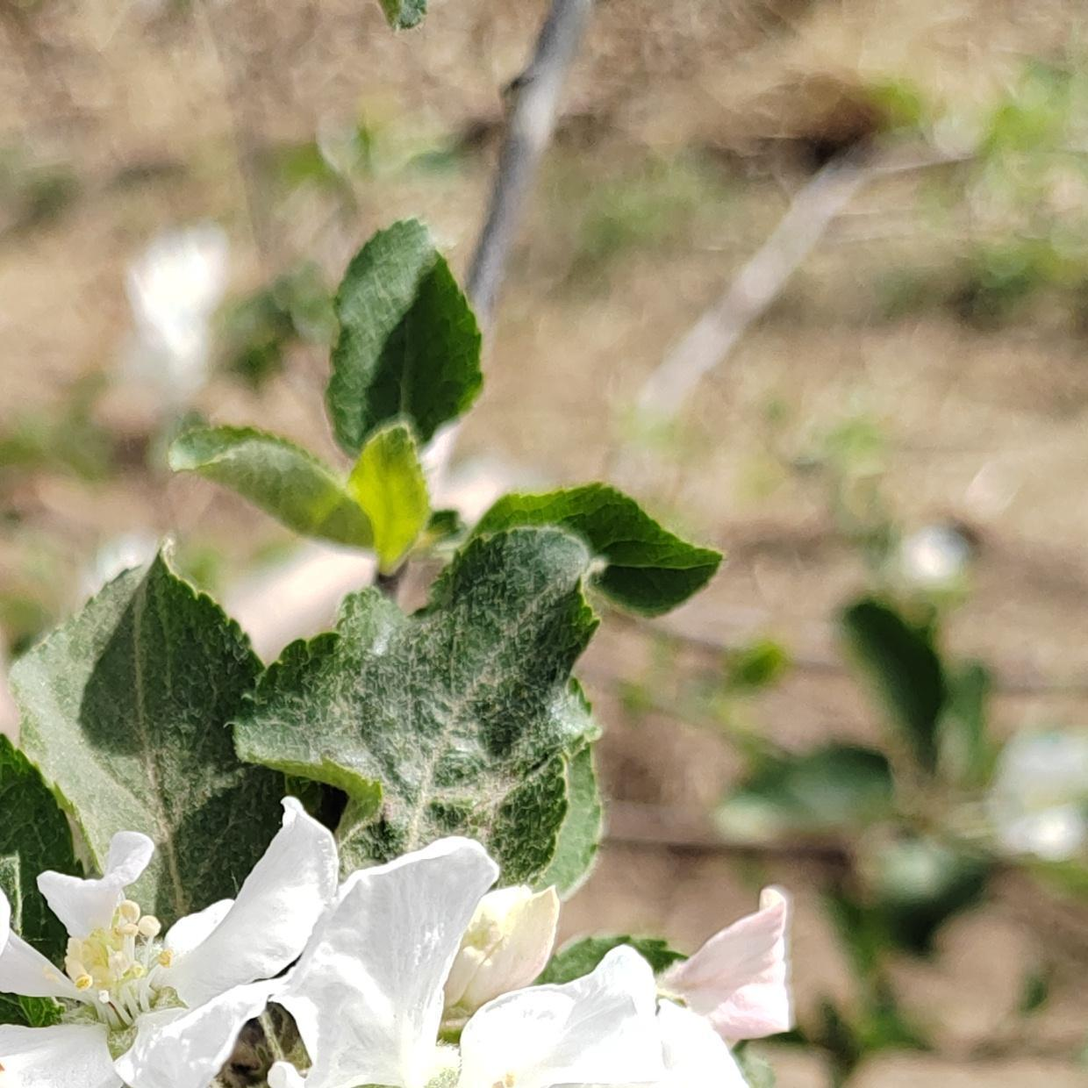apple_flower: (272, 837, 755, 1088), (0, 800, 340, 1088), (662, 884, 796, 1039)
